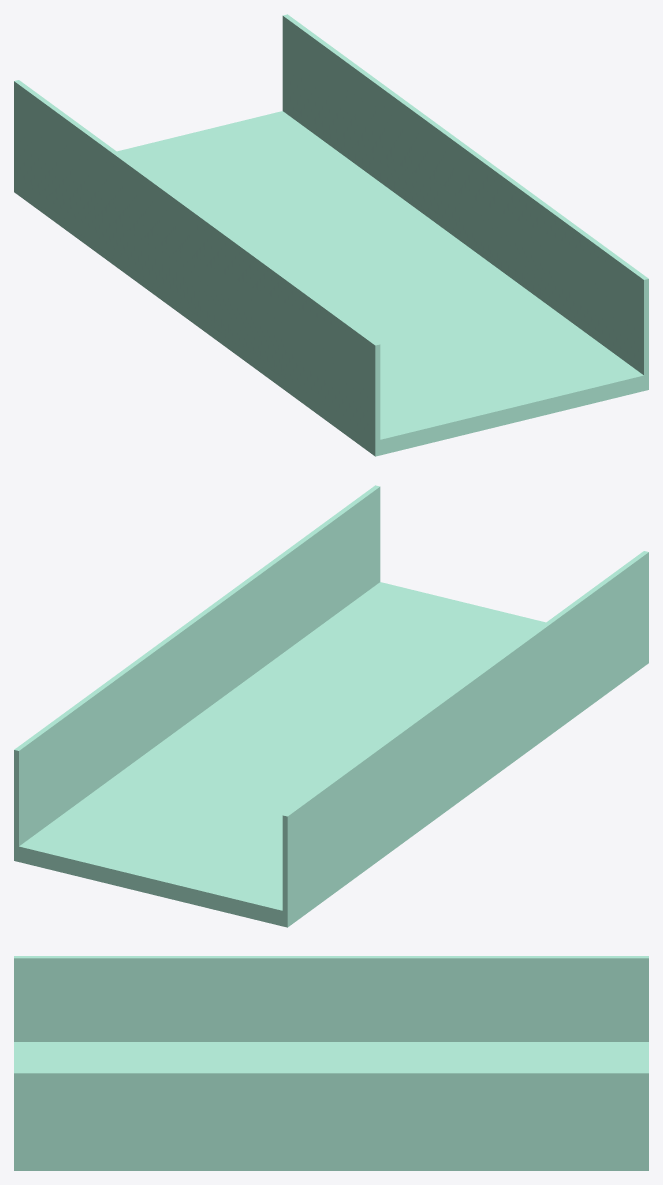
The model's file is climb-skin-13.glb.
3 renders of one model, top to bottom at view 1: azimuth 30°, elevation 25°; view 2: azimuth 150°, elevation 25°; view 3: azimuth 270°, elevation 25°, orthographic. The views are drawn at different scales.
Visible parts, largest first — view 1: climb-skin-13; view 2: climb-skin-13; view 3: climb-skin-13.
Part boxes in pixels (box(x1,y1,x2,y2)): climb-skin-13: box(14, 14, 648, 456); climb-skin-13: box(14, 485, 648, 927); climb-skin-13: box(14, 956, 648, 1170).
Bounding box in the file's own units: 3.3 × 1.28 × 7.55.
1 material, 1 textured.
